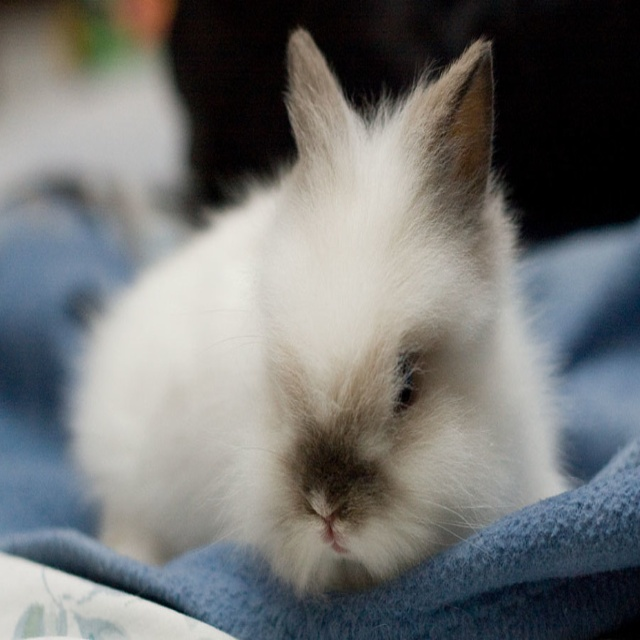Rabbit: (60, 24, 586, 608)
